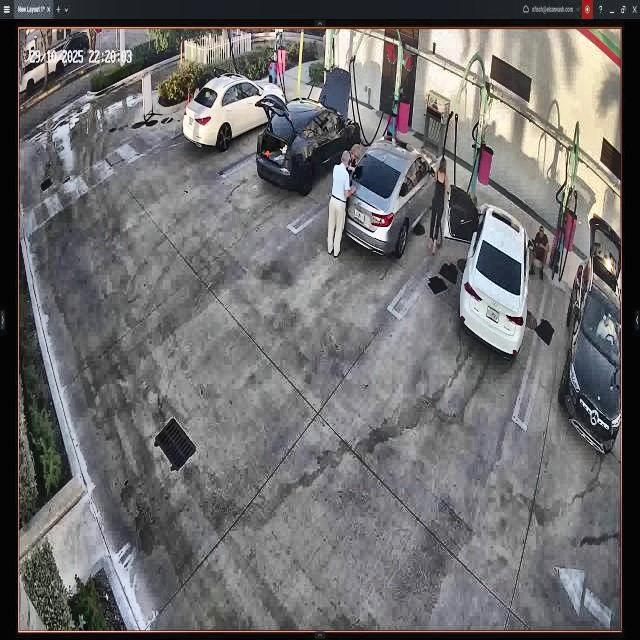Car: (448, 183, 531, 357), (256, 73, 358, 194), (340, 137, 440, 256), (180, 72, 285, 151)
